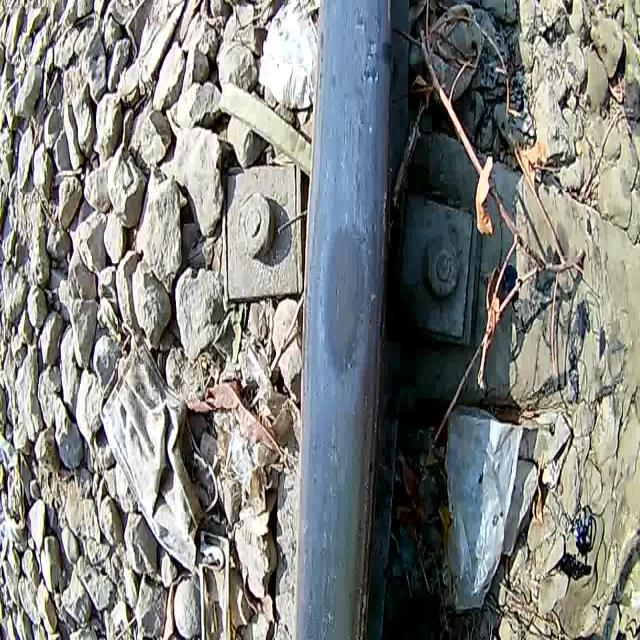Squats: (272, 0, 418, 640)
